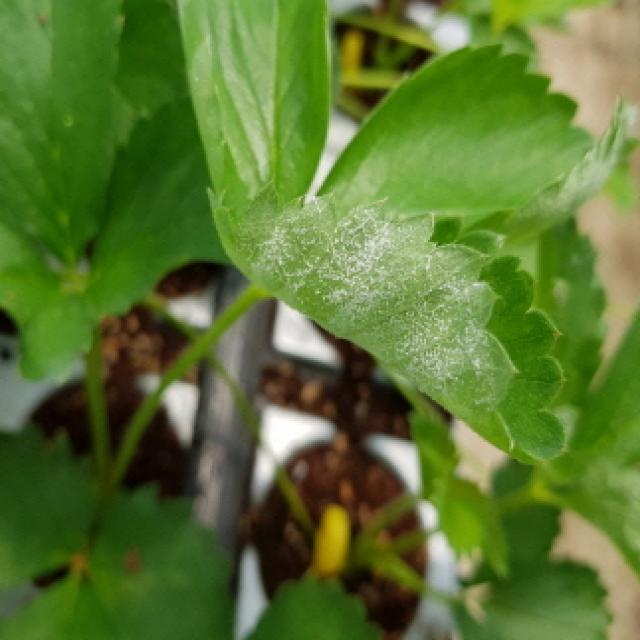Powdery Mildew Leaf: (204, 190, 569, 468)
